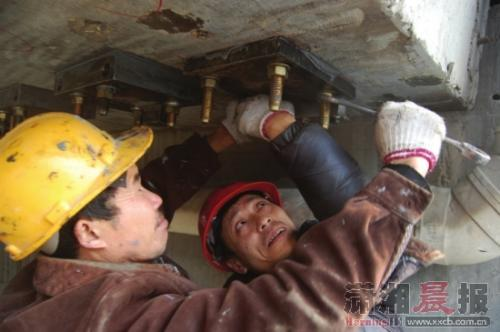helmet: (1, 103, 173, 284), (196, 173, 301, 272)
